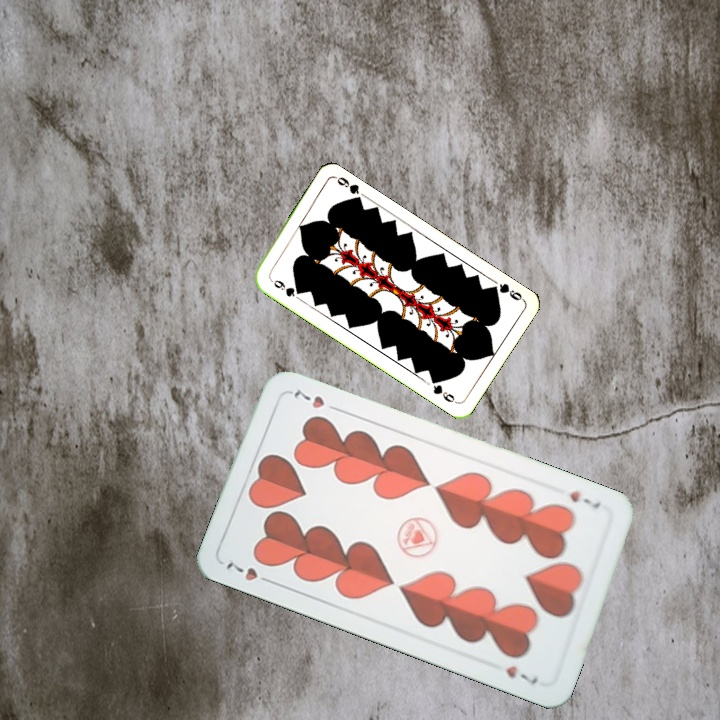G9: (486, 279, 526, 303), (266, 274, 304, 299)
H7: (221, 555, 276, 587), (565, 487, 603, 511)
